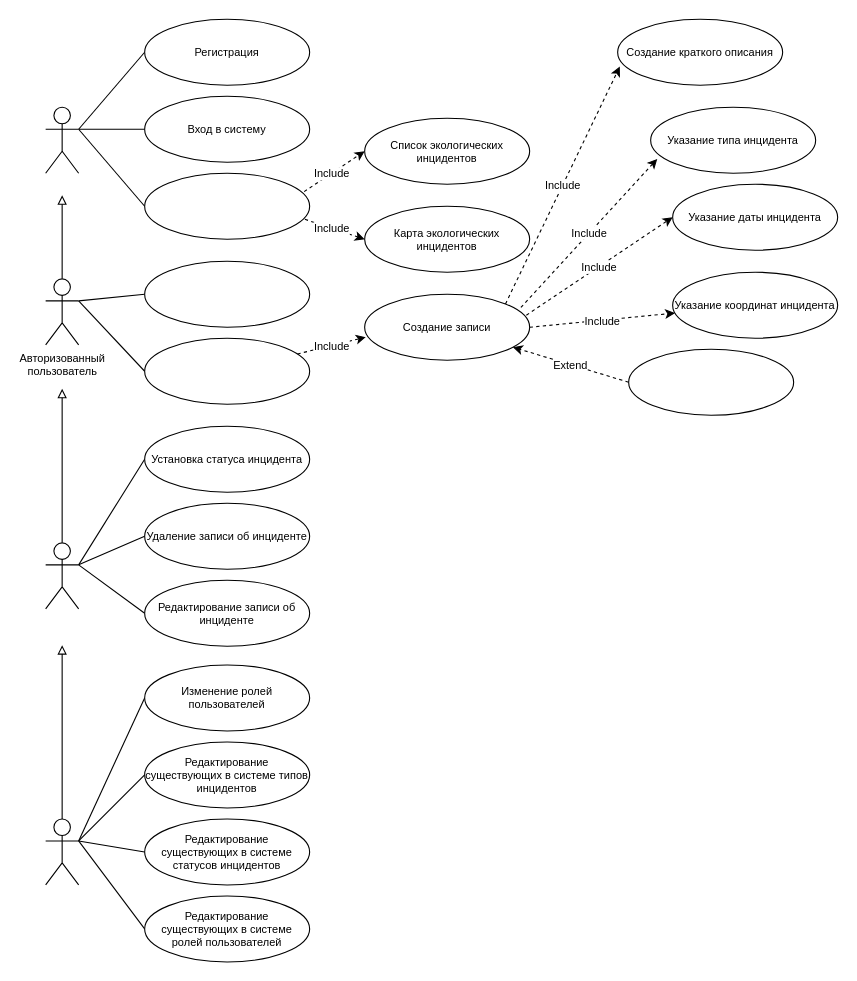
Image size: 857x981. Some labels were removed from this diagram. Each missing label, with the box of its shape:
Администратор: (45, 818, 79, 885)
Выход из системы: (144, 260, 310, 327)
Гость: (45, 106, 79, 173)
Модератор: (45, 542, 79, 609)
Новая запись об инциденте: (144, 337, 310, 404)
Просмотр экологических инцидентов: (144, 172, 310, 239)
Создание комментария: (628, 348, 794, 415)
